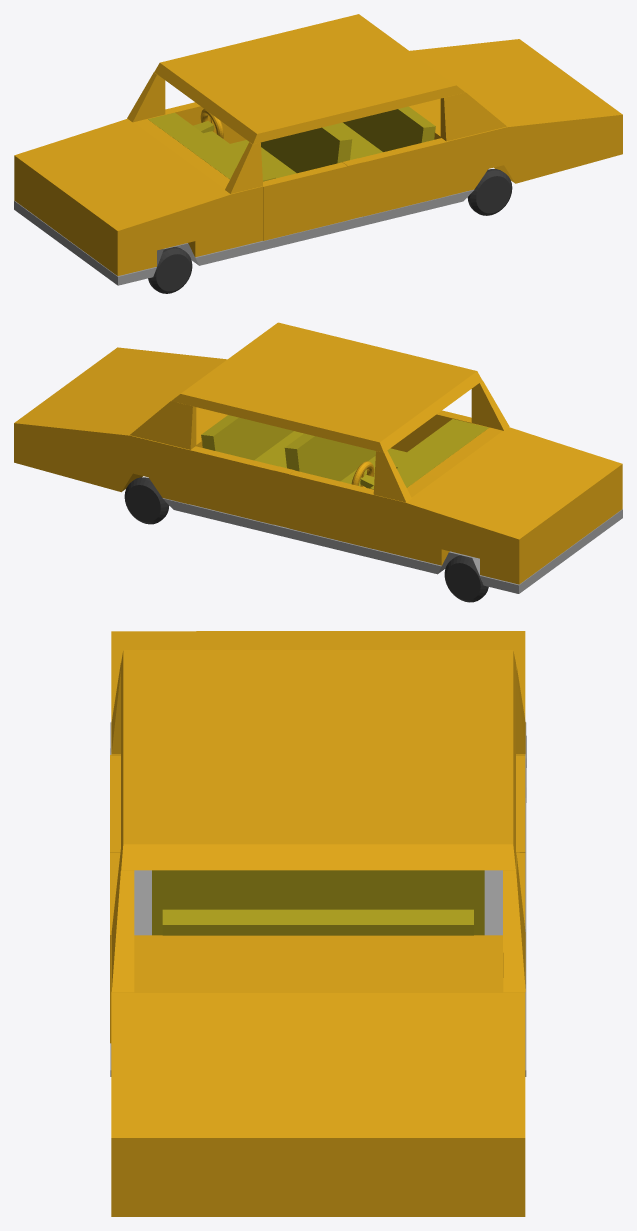
File: CAR.glb
3 renders of one model, top to bottom at view 1: azimuth 30°, elevation 25°; view 2: azimuth 150°, elevation 25°; view 3: azimuth 270°, elevation 25°, orthographic. The views are drawn at different scales.
Visible parts, largest first — view 1: Cube; view 2: Cube; view 3: Cube.
Boxes of the visible parts, box(x1,y1,x2,y2) form: Cube: box(14, 14, 622, 293); Cube: box(14, 322, 622, 602); Cube: box(110, 631, 526, 1216).
Bounding box in the file's own units: 25.26 × 6.65 × 9.02.
